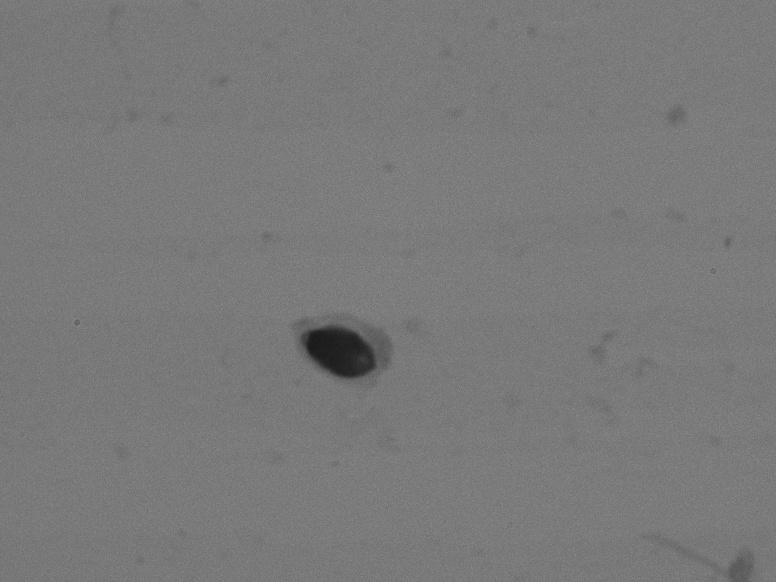Abnormal: (251, 254, 453, 430)
